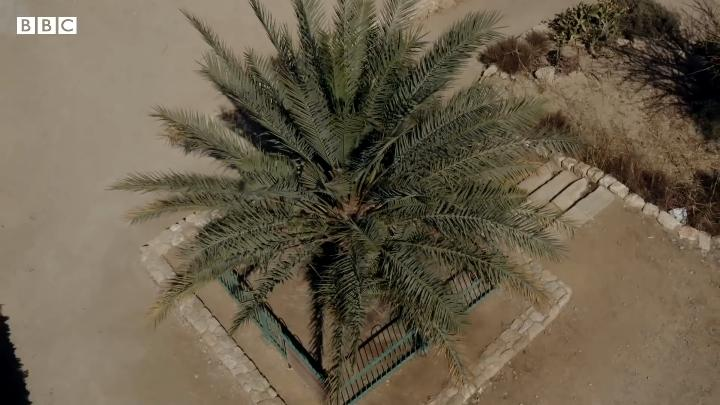Date-Palm-Crown: (272, 110, 418, 278)
